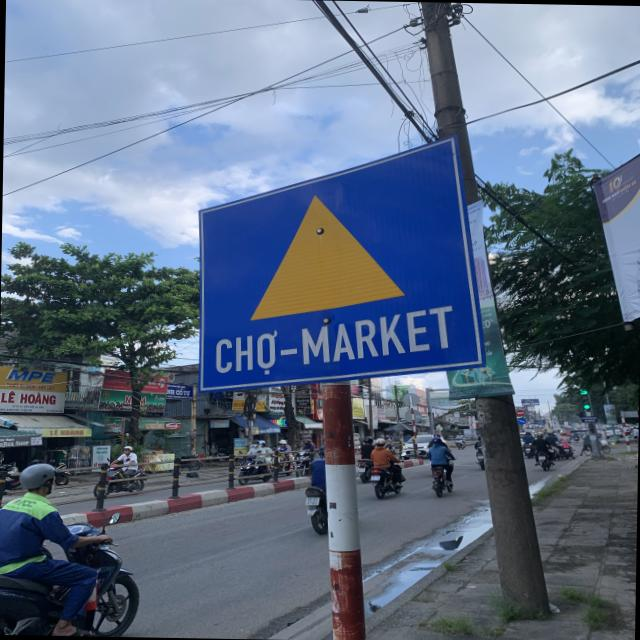Cho_Quay_Xe: (193, 133, 480, 386)
